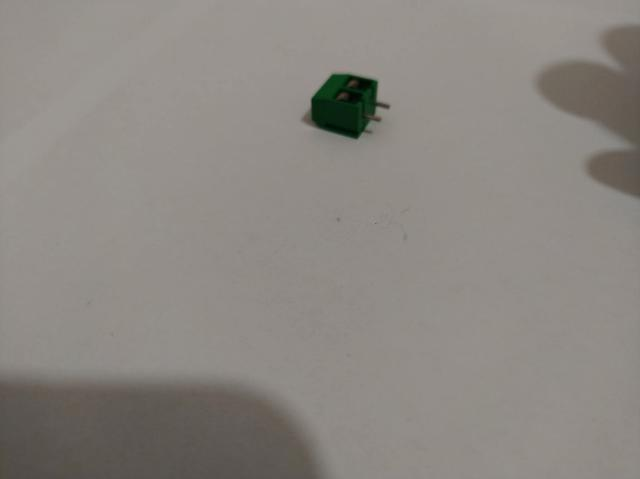terminal_block: (310, 74, 390, 138)
